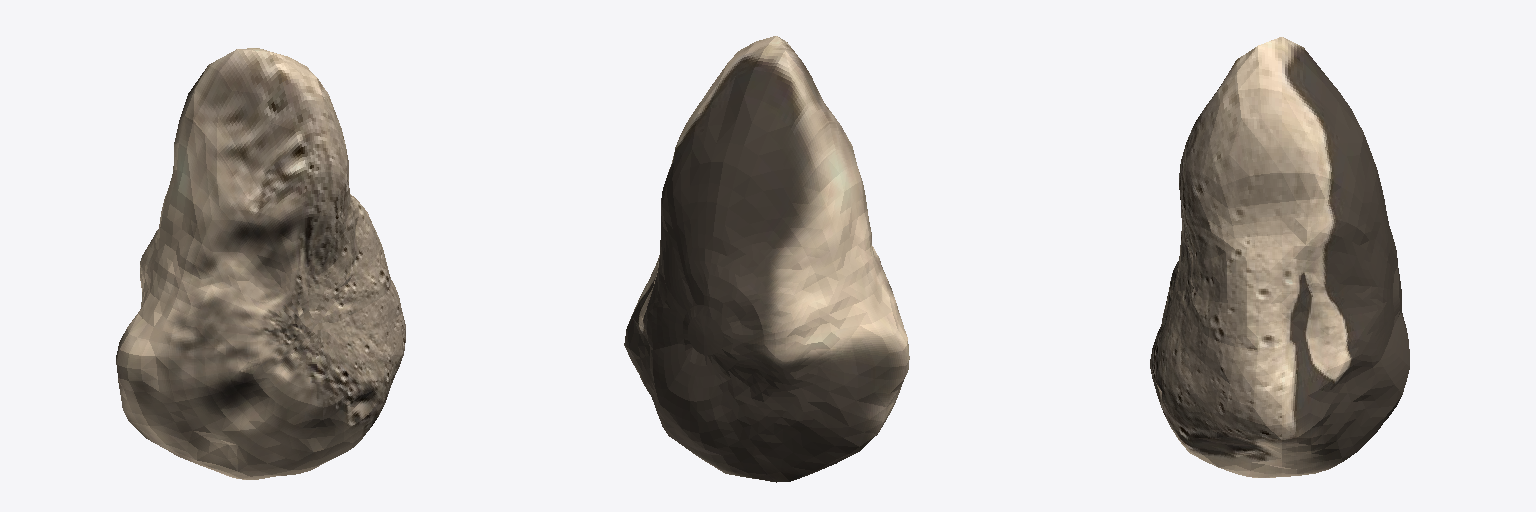
3 renders of one model, left to right at view 1: azimuth 30°, elevation 25°; view 2: azimuth 150°, elevation 25°; view 3: azimuth 270°, elevation 25°, orthographic.
Size of the model in its own units: 12.51 by 18.24 by 10.17.
Materials: 1 (1 with a texture image).